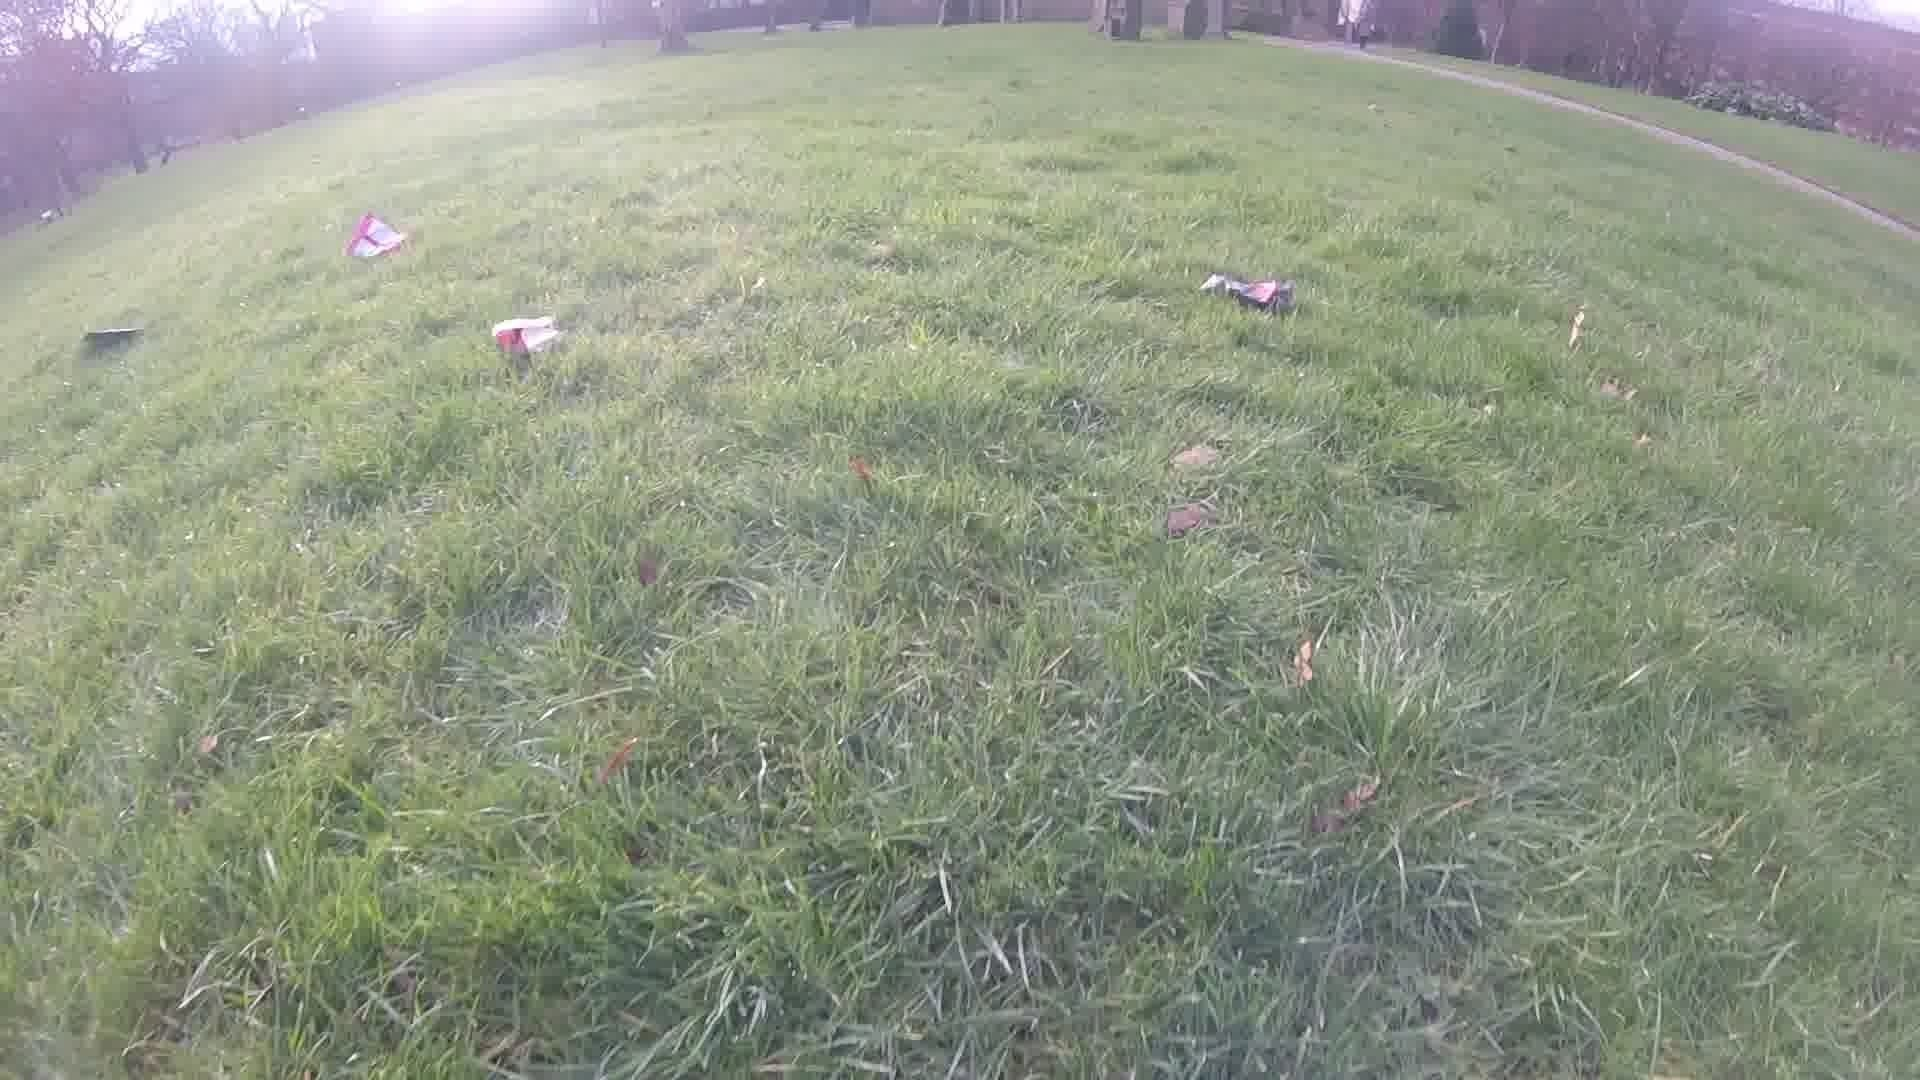litter: (1197, 272, 1294, 316), (339, 208, 407, 260), (488, 316, 555, 353), (78, 328, 131, 339)
